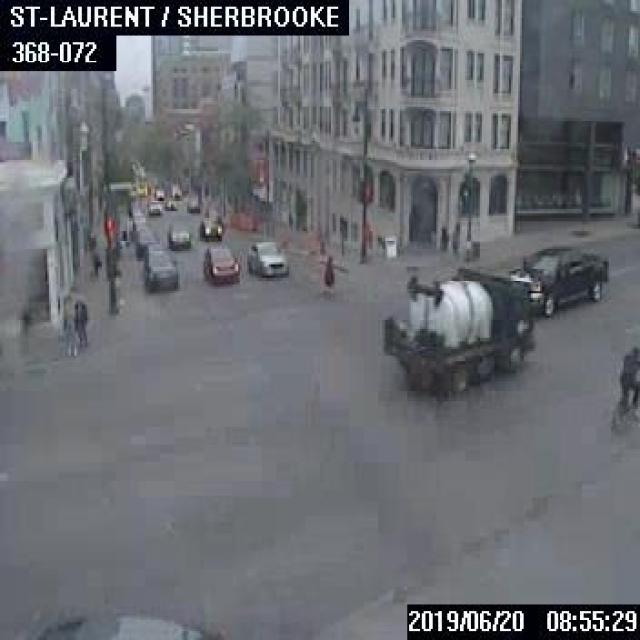cyclist: (607, 340, 638, 429)
pedestrian: (60, 297, 76, 354), (72, 297, 87, 343), (321, 252, 335, 294), (438, 218, 447, 255), (91, 246, 100, 276)
vehicle: (378, 266, 534, 393), (508, 244, 608, 314), (31, 609, 218, 638), (143, 242, 177, 290), (246, 239, 286, 276), (200, 245, 238, 282), (134, 228, 156, 256), (198, 213, 221, 239), (448, 220, 461, 253), (185, 196, 198, 211), (147, 198, 160, 212), (163, 196, 176, 208), (170, 184, 180, 196), (154, 187, 162, 198)
